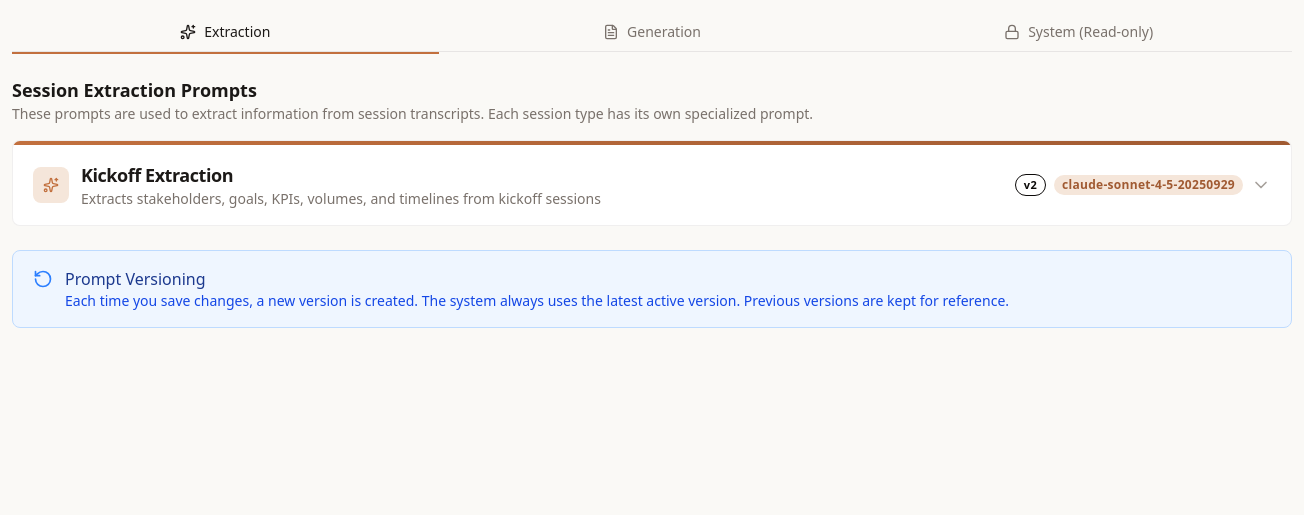
Test case: PromptManager › shows the current prompt text and temperature for a template
# Click to expand the collapsible
Click the heading "Kickoff Extraction" at point(157, 175), box [81,163,233,187]
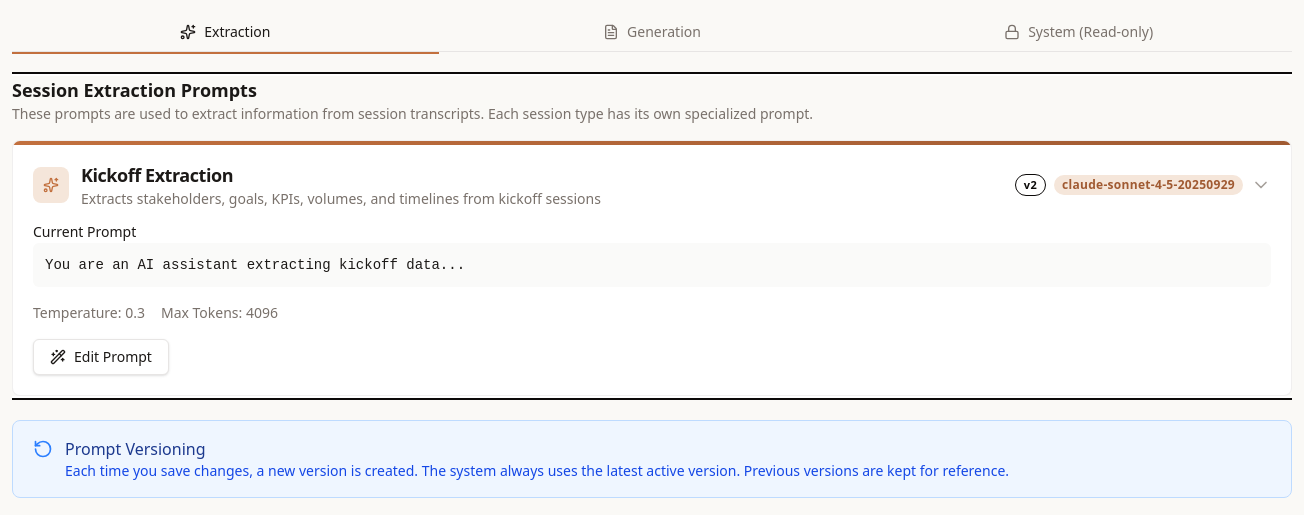
Check: the text "Current Prompt" is shown, box [33,222,136,241]
Check: the text "Temperature: 0.3" is shown, box [33,303,145,323]
Check: the text "Max Tokens: 4096" is shown, box [161,303,278,323]
